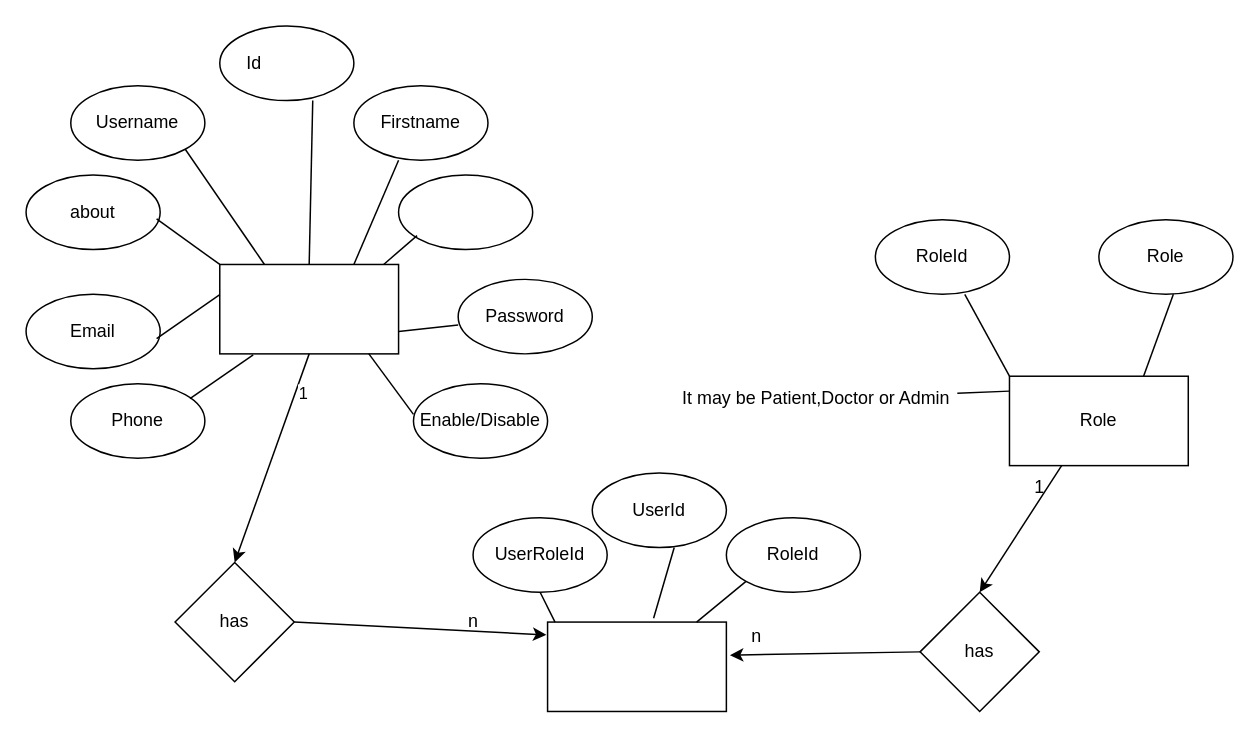
Image size: 1259x738. Some labels were removed from this diagram. The centre of each missing label's shape, as x and y in pixels:
"Lastname" belongs at (x=465, y=212).
"User(Patient,Doctor,Admin)" belongs at (x=308, y=308).
"User_Role" belongs at (x=636, y=666).
